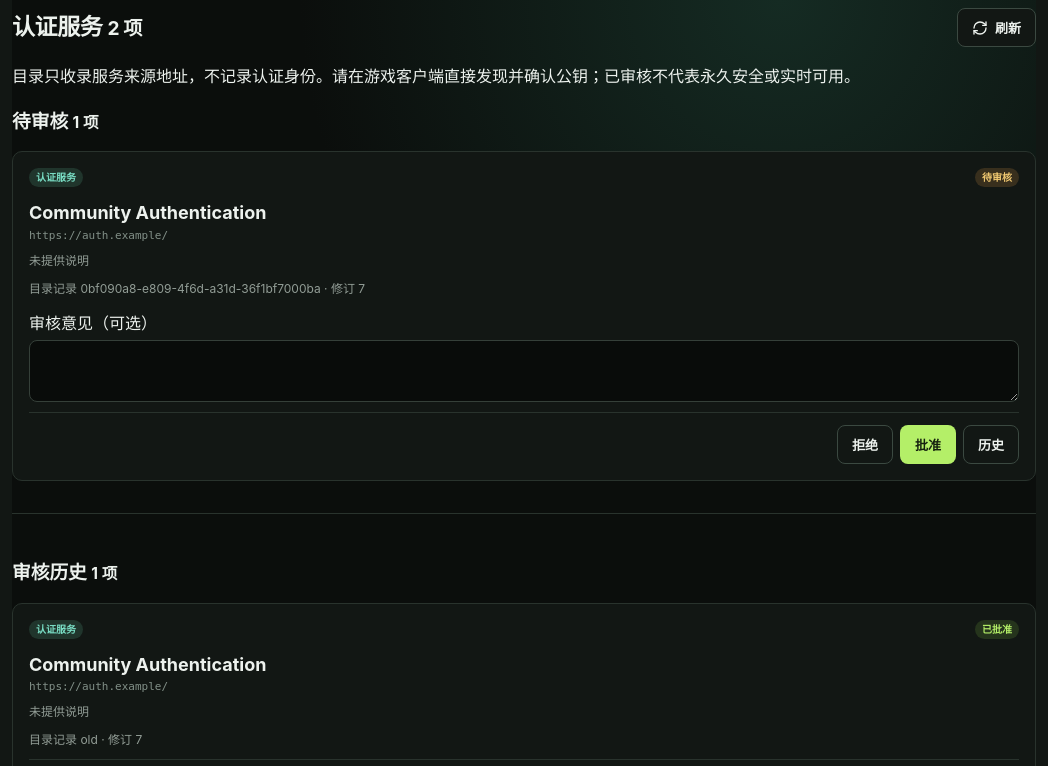
Test: Authentication service directory › submits the reviewed revision and preserves notes after a conflict without retrying approval
Type "Reviewed the displayed source" into the text box labelled "审核意见（可选）" at [524, 371], box [29,340,1019,402]
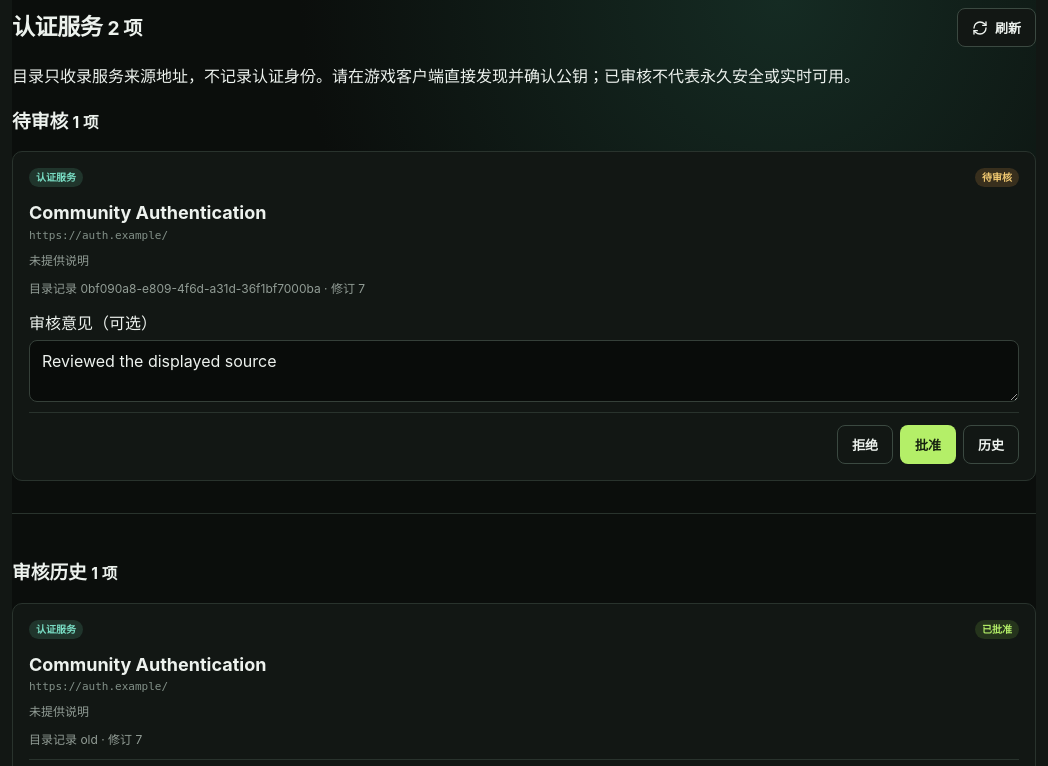
Click the button "批准" at [928, 445], box [900,425,956,464]
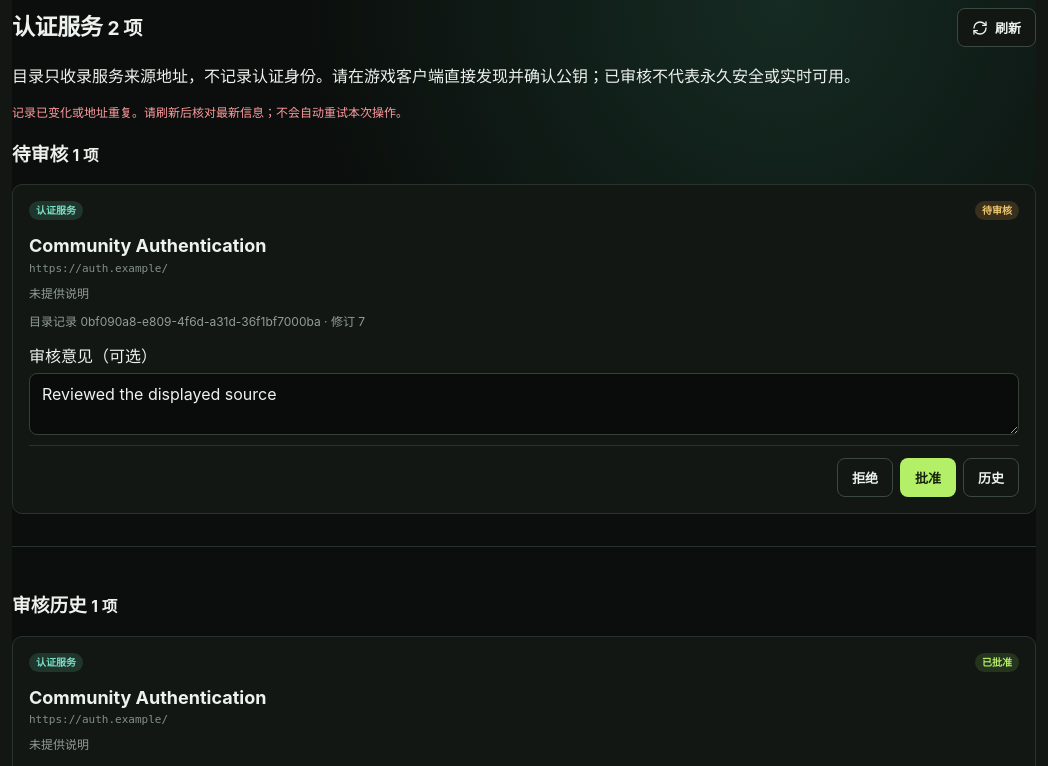
Expected: the text "记录已变化" is shown, [12,105,408,120]
